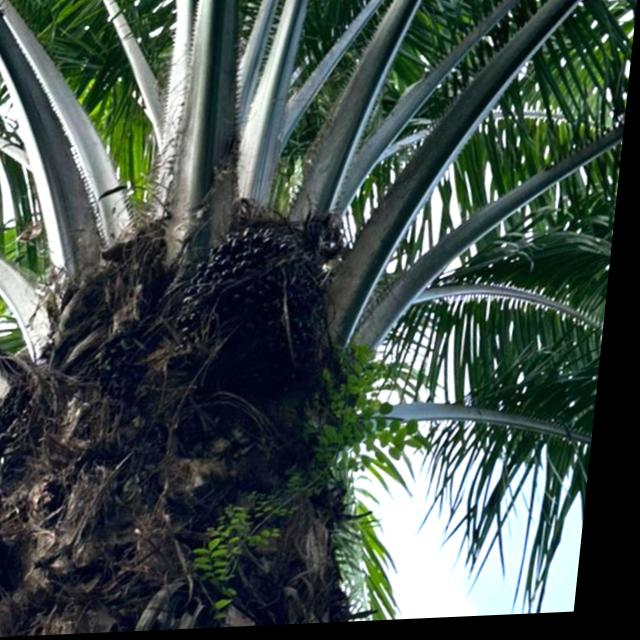almost: (171, 211, 349, 395)
